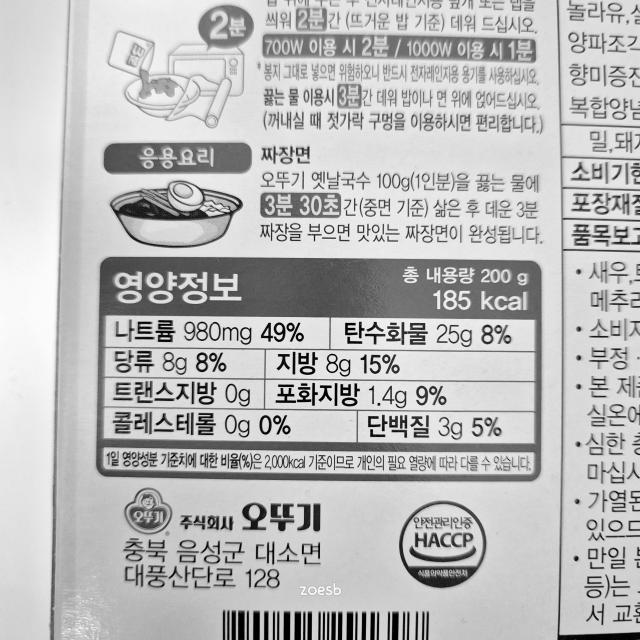Nutrition Label: (89, 246, 550, 490)
